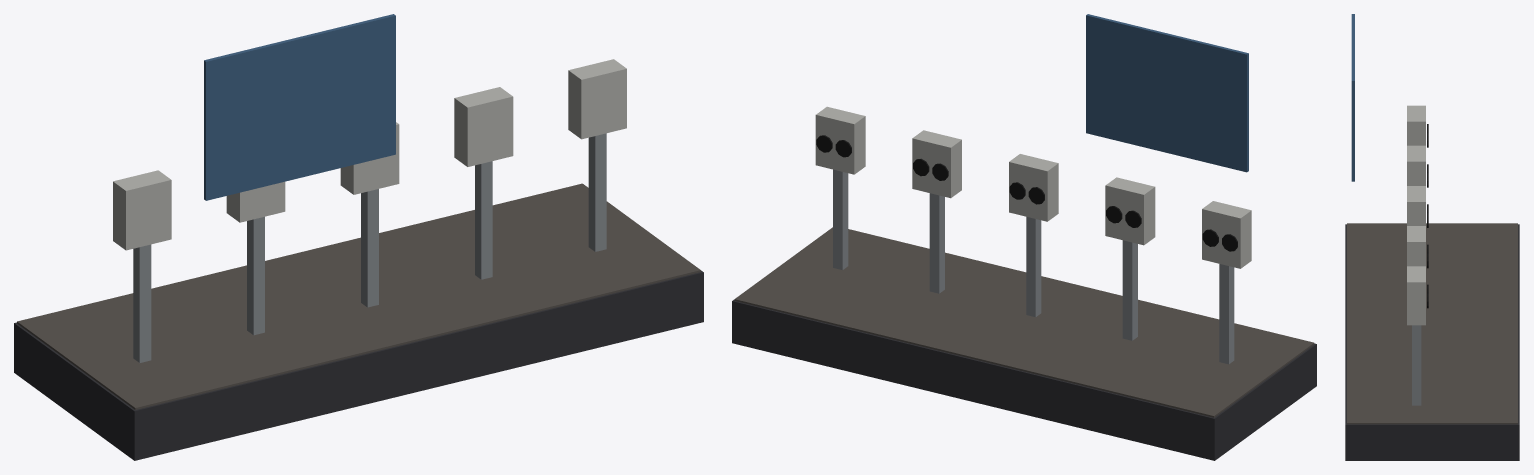
The model's file is display_optics.glb.
3 views of the same model, side by side, from view 1: azimuth 30°, elevation 25°; view 2: azimuth 150°, elevation 25°; view 3: azimuth 270°, elevation 25° (orthographic). The views are drawn at different scales.
Parts seen in each view (by area): view 1: display_optics; view 2: display_optics; view 3: display_optics.
Part boxes in pixels (left/top/right/bottom): display_optics: left=14, top=14, right=703, bottom=460; display_optics: left=732, top=14, right=1316, bottom=460; display_optics: left=1345, top=14, right=1519, bottom=460.
Size of the model in its own units: 3 by 1.9 by 1.1.
